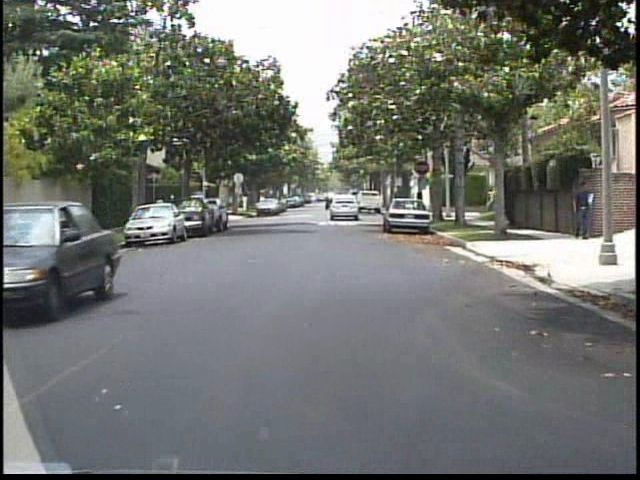person: (568, 177, 594, 245), (154, 192, 171, 231)
